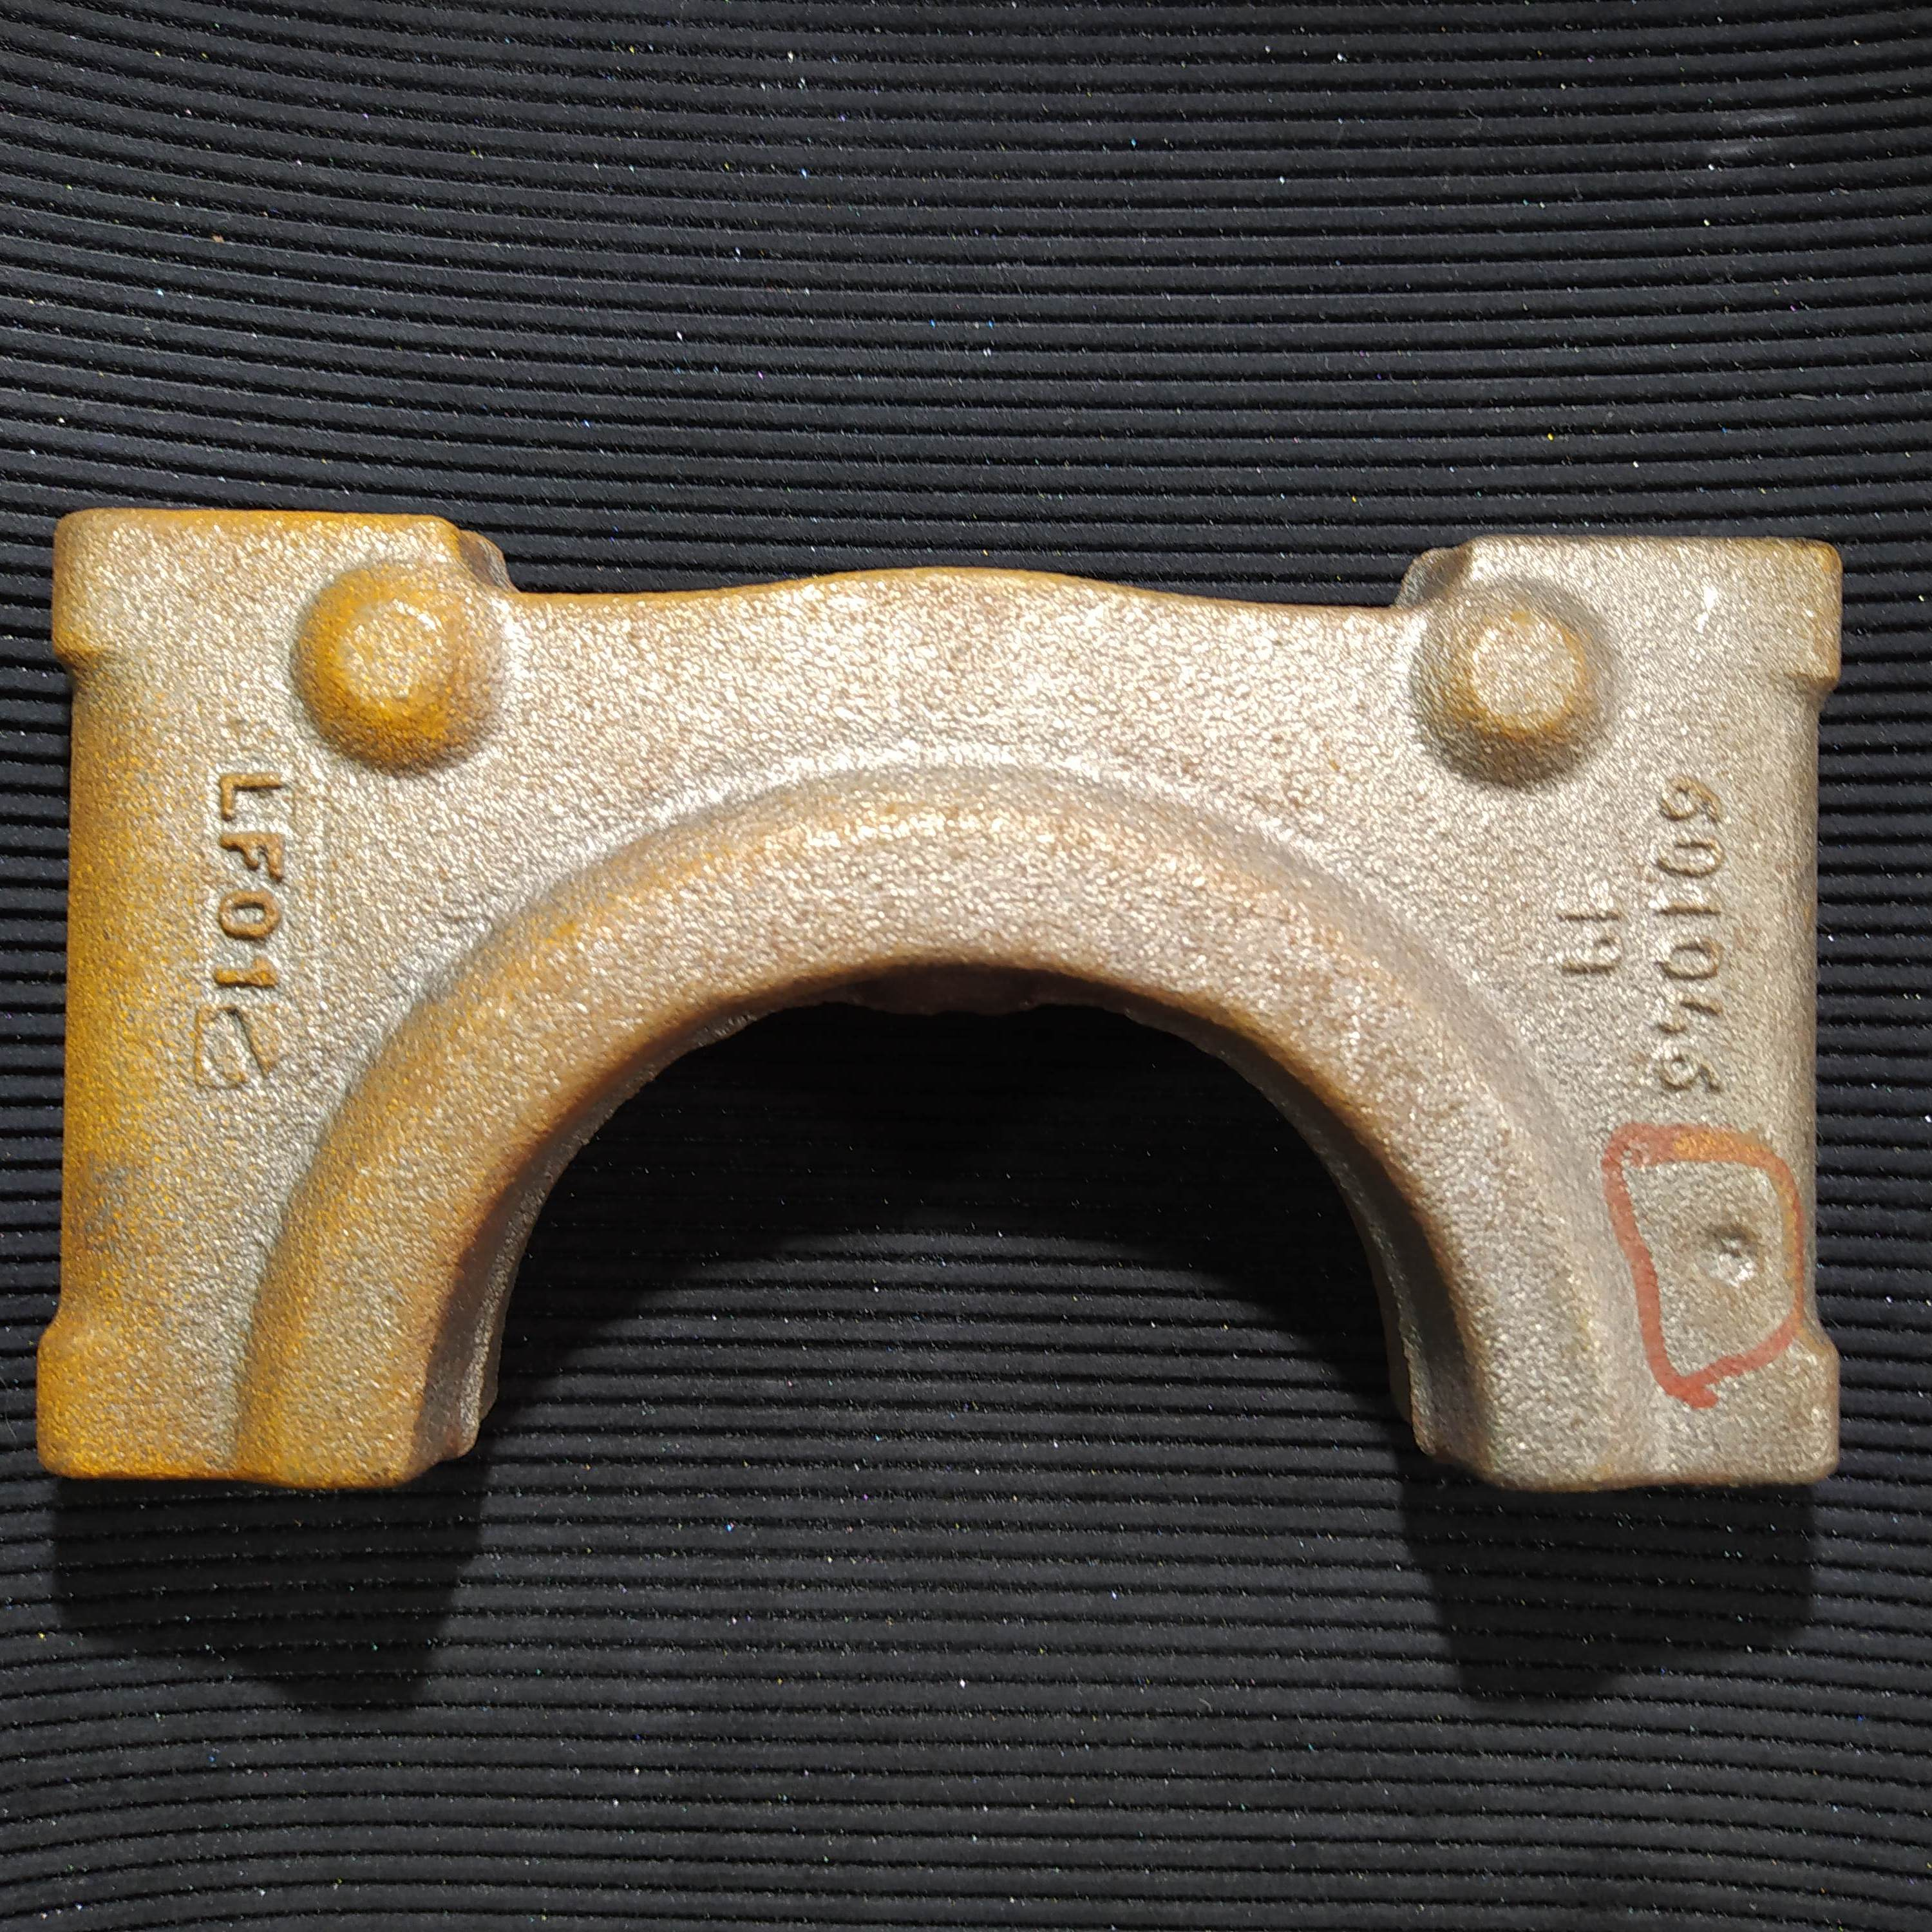buraco: (1697, 1217, 1769, 1302)
